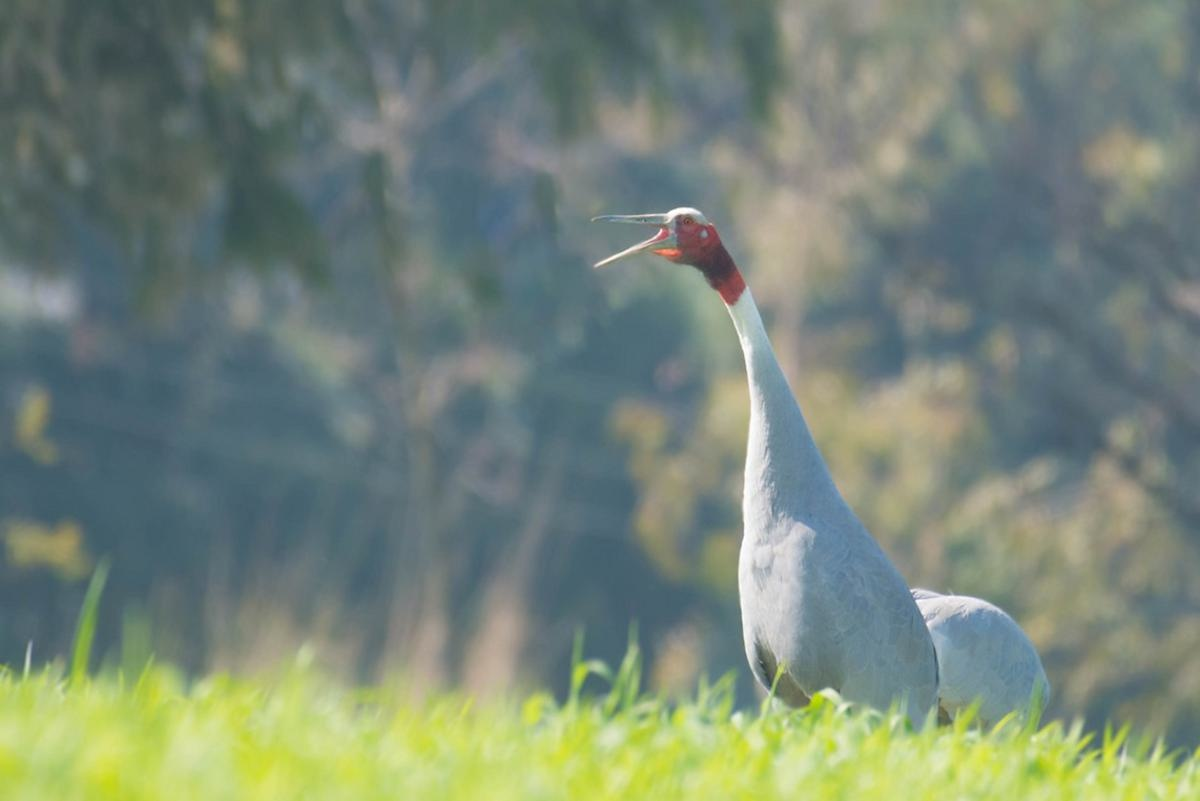crane: (554, 154, 1037, 775)
